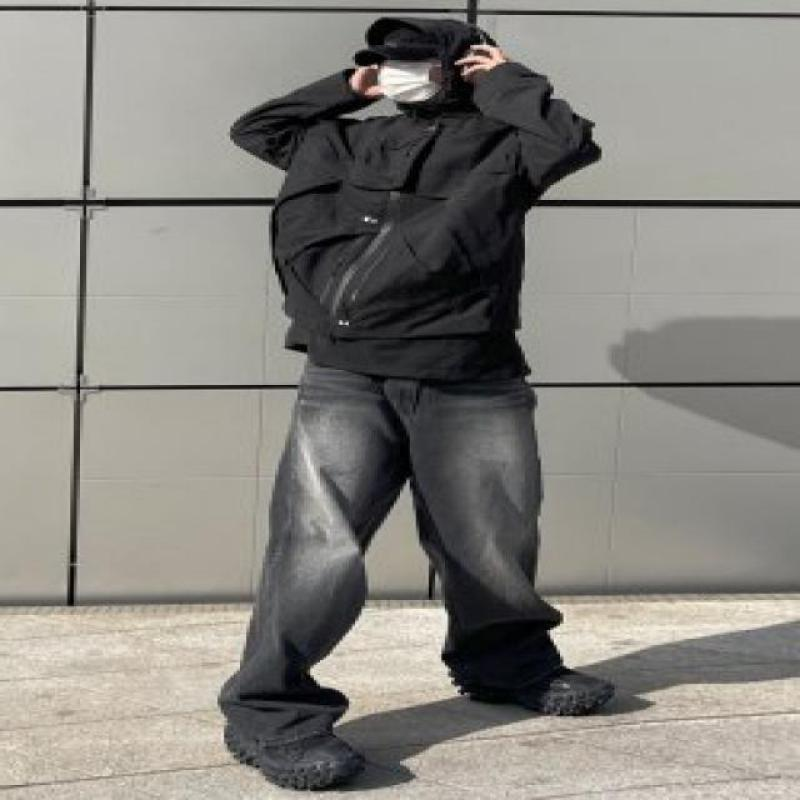coat: (225, 14, 606, 387)
trousers: (216, 359, 565, 750)
